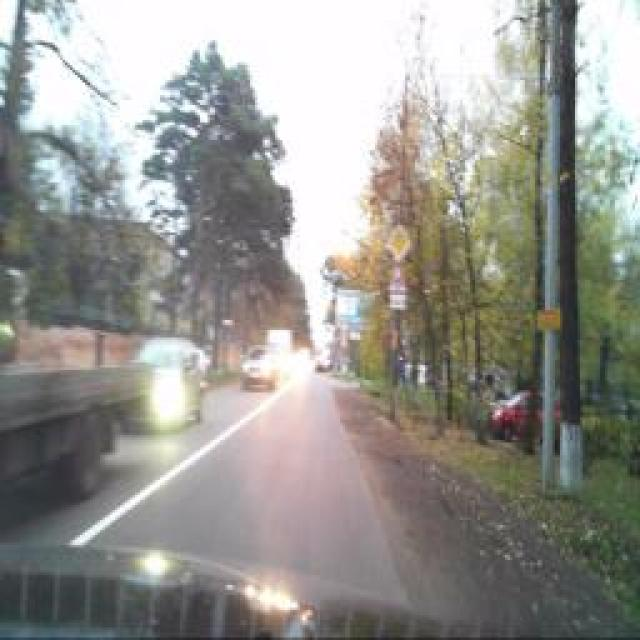sign: (388, 222, 410, 262)
